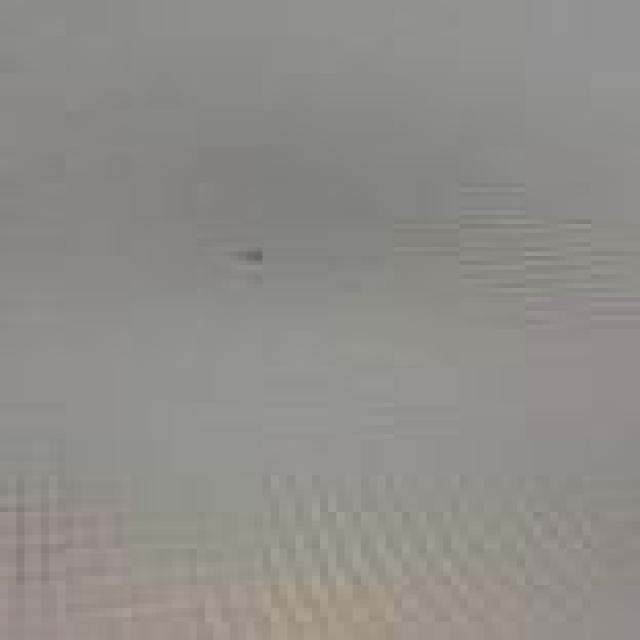dead_pixel: (225, 241, 280, 278)
